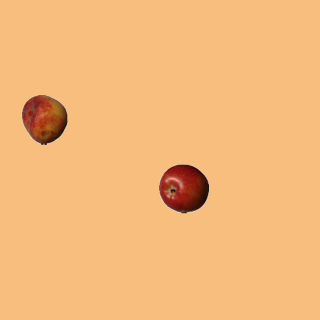Apple Braeburn: (158, 163, 208, 213)
Peach: (19, 94, 69, 144)
